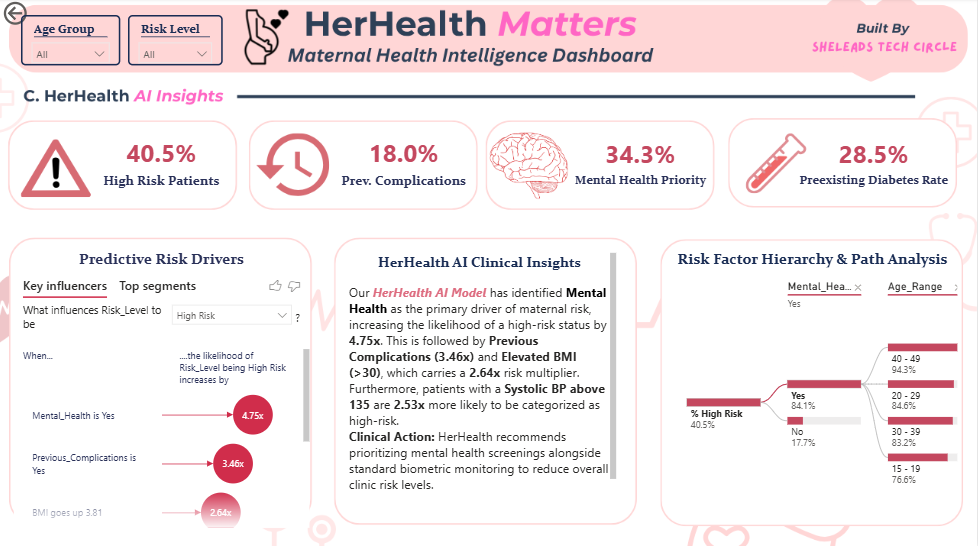

This screenshot's page, from the dashboard's own definition file:
{"tool":"powerbi","page":{"name":"C. AI Insights","canvas":[1280,720],"ordinal":2},"visuals":[{"type":"card","fields":{"Values":["Cleaned_Maternal_health_dataset.% High Risk"]},"box":[119.5,165.6,184.3,97.9],"z":0},{"type":"card","fields":{"Values":["Cleaned_Maternal_health_dataset.% Prev. Complications"]},"box":[432,165.6,193,97.9],"z":1000},{"type":"card","fields":{"Values":["Cleaned_Maternal_health_dataset.% Mental Health Priority"]},"box":[744.5,165.6,187.2,97.9],"z":2000},{"type":"actionButton","box":[0,0,100,40],"z":3000},{"type":"card","fields":{"Values":["Cleaned_Maternal_health_dataset.% Diabetes Rate"]},"box":[1039.7,165.6,208.8,97.9],"z":4000},{"type":"keyDriversVisual","title":"Predictive Risk Drivers","fields":{"Target":["Cleaned_Maternal_health_dataset.Risk_Level"],"ExplainBy":["Cleaned_Maternal_health_dataset.Previous_Complications","Cleaned_Maternal_health_dataset.BMI","Cleaned_Maternal_health_dataset.Age","Cleaned_Maternal_health_dataset.Mental_Health","Cleaned_Maternal_health_dataset.Systolic_BP"]},"box":[12.6,328.4,396.8,365.3],"z":5000},{"type":"textbox","box":[452.2,328.3,360,345.6],"z":6000},{"type":"decompositionTreeVisual","title":"Risk Factor Hierarchy & Path Analysis","fields":{"Analyze":["Cleaned_Maternal_health_dataset.% High Risk"],"ExplainBy":["Cleaned_Maternal_health_dataset.Mental_Health","Cleaned_Maternal_health_dataset.Age_Range","Cleaned_Maternal_health_dataset.Previous_Complications"]},"box":[869.8,328.3,388.8,355.7],"z":7000},{"type":"slicer","fields":{"Values":["Cleaned_Maternal_health_dataset.Age_Range"]},"box":[27.4,21.6,129.6,66.2],"z":8000},{"type":"slicer","fields":{"Values":["Cleaned_Maternal_health_dataset.Risk_Level"]},"box":[167,21.6,123.8,66.2],"z":9000}]}

Visuals, with their boxes in screenshot pixels (x1, y1, x2, y2), scaled from the page's 1280x720 canvas onto the 978x546 screenshot:
card - Cleaned_Maternal_health_dataset.% High Risk: [left=91, top=126, right=232, bottom=200]
card - Cleaned_Maternal_health_dataset.% Prev. Complications: [left=330, top=126, right=478, bottom=200]
card - Cleaned_Maternal_health_dataset.% Mental Health Priority: [left=569, top=126, right=712, bottom=200]
actionButton: [left=0, top=0, right=76, bottom=30]
card - Cleaned_Maternal_health_dataset.% Diabetes Rate: [left=794, top=126, right=954, bottom=200]
"Predictive Risk Drivers" keyDriversVisual: [left=10, top=249, right=313, bottom=526]
textbox: [left=346, top=249, right=621, bottom=511]
"Risk Factor Hierarchy & Path Analysis" decompositionTreeVisual: [left=665, top=249, right=962, bottom=519]
slicer - Cleaned_Maternal_health_dataset.Age_Range: [left=21, top=16, right=120, bottom=67]
slicer - Cleaned_Maternal_health_dataset.Risk_Level: [left=128, top=16, right=222, bottom=67]
